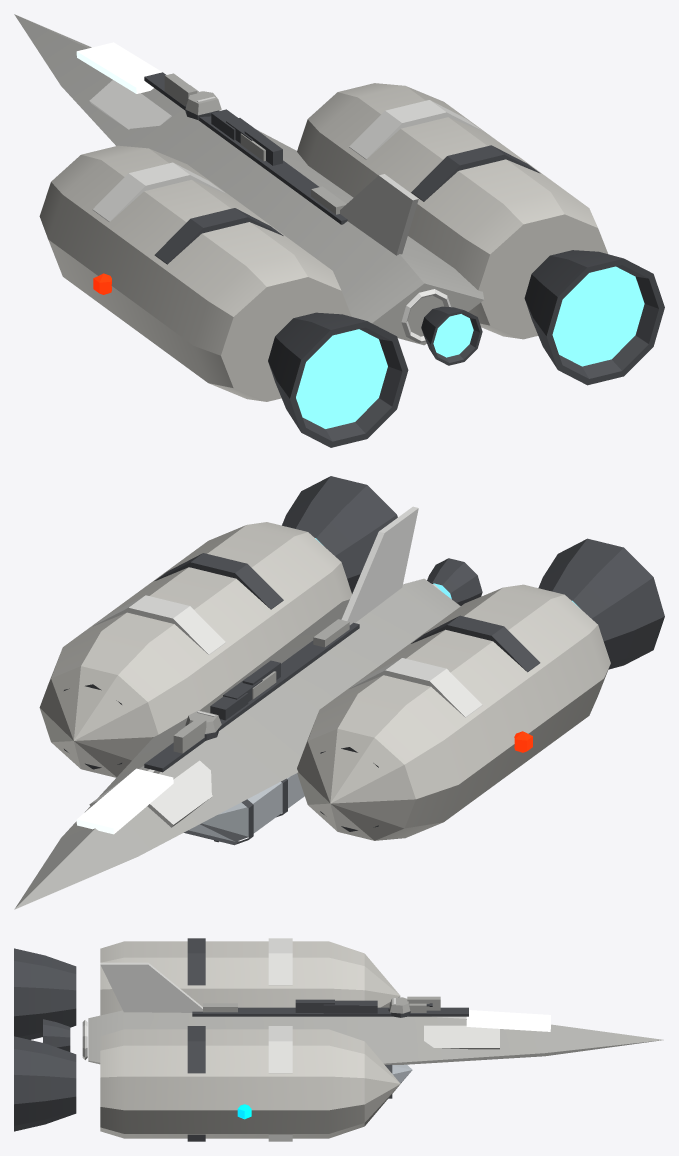
File: swift.glb
The picture shows the model from 3 angles, top to bottom: view 1: azimuth 30°, elevation 25°; view 2: azimuth 150°, elevation 25°; view 3: azimuth 270°, elevation 25°; orthographic projection. The views are drawn at different scales.
Parts seen in each view (by area): view 1: Hull, Turret_4; view 2: Hull; view 3: Hull, Turret_4.
Boxes of the visible parts, left/top/right/bottom form: Hull: left=14, top=14, right=664, bottom=447; Turret_4: left=185, top=91, right=221, bottom=119; Hull: left=14, top=476, right=664, bottom=909; Hull: left=14, top=938, right=663, bottom=1141; Turret_4: left=388, top=997, right=432, bottom=1017.
Size of the model in its own units: 1.08 by 0.4483 by 2.
